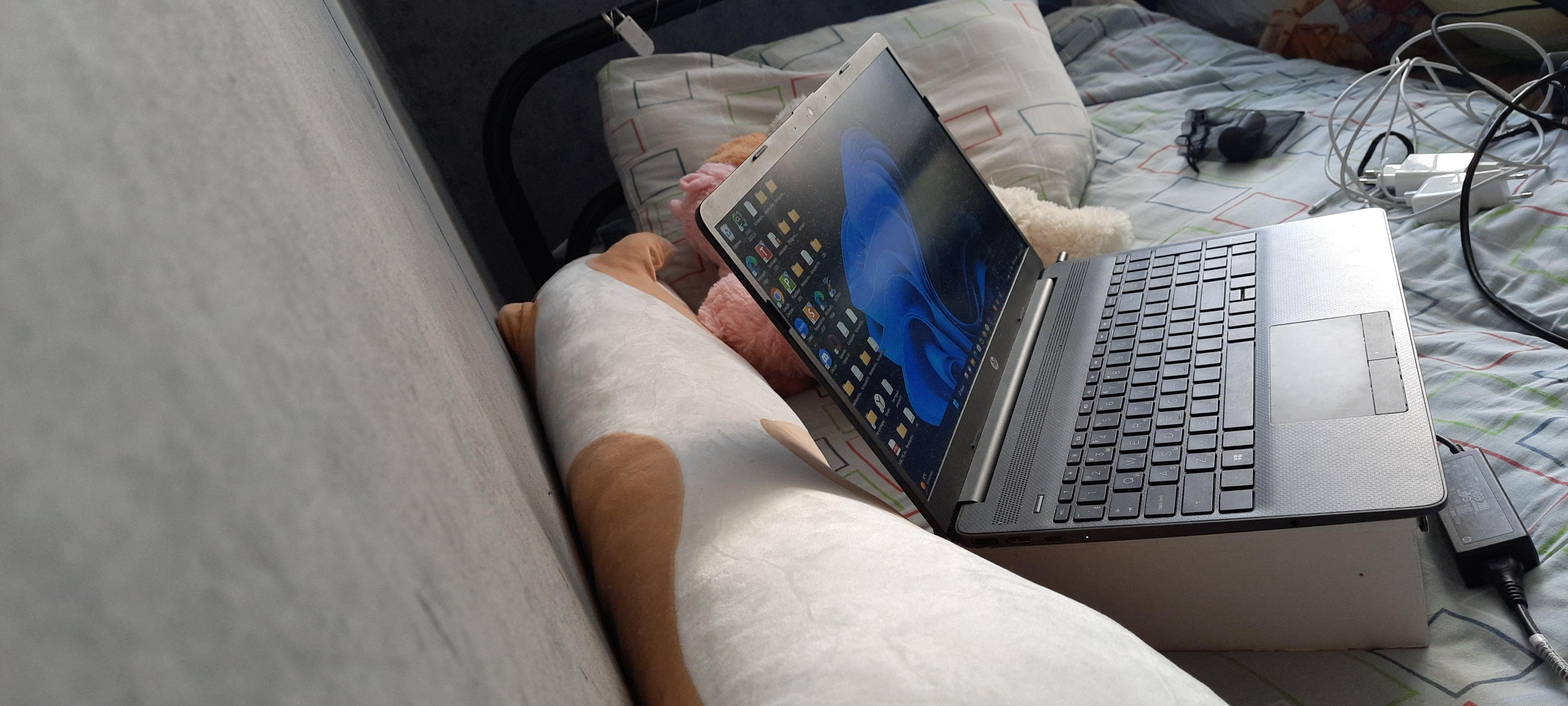monitor: (699, 24, 1043, 542)
